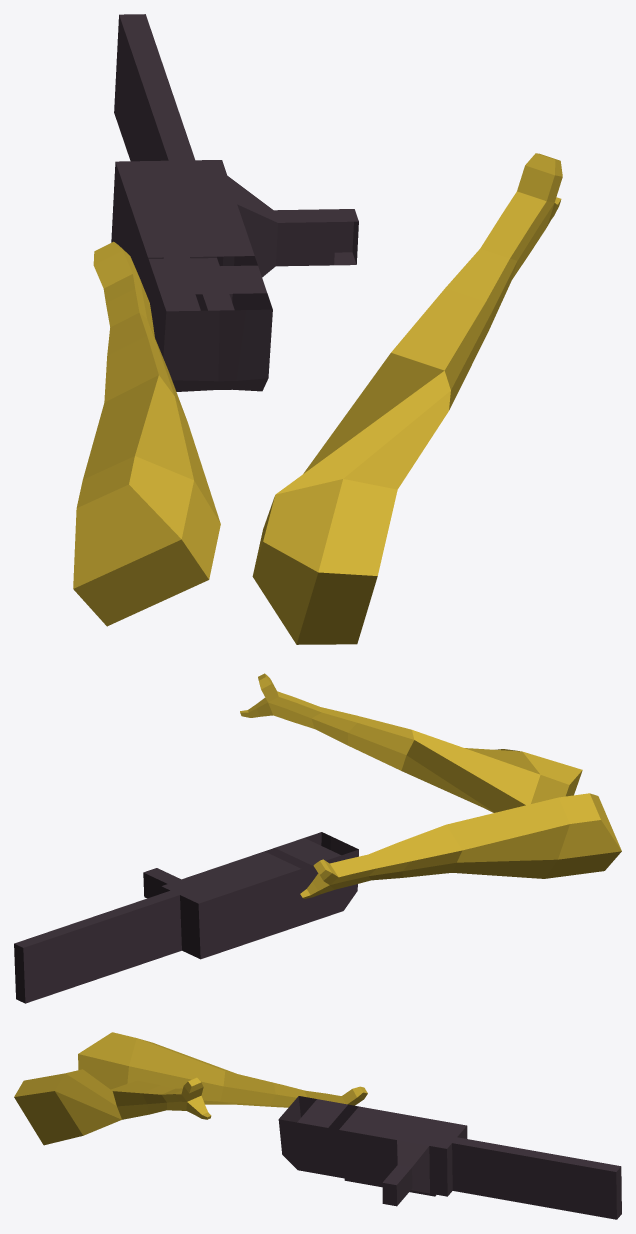
The model's file is arme_000081.obj.
The picture shows the model from 3 angles, top to bottom: view 1: azimuth 30°, elevation 25°; view 2: azimuth 150°, elevation 25°; view 3: azimuth 270°, elevation 25°; orthographic projection. The views are drawn at different scales.
Parts seen in each view (by area): view 1: Cube.048_Cube.024, Cube.046_Cube.010; view 2: Cube.048_Cube.024, Cube.046_Cube.010; view 3: Cube.046_Cube.010, Cube.048_Cube.024.
Part boxes in pixels (bbox=[...]): Cube.048_Cube.024: bbox=[73, 153, 562, 644]; Cube.046_Cube.010: bbox=[111, 14, 358, 391]; Cube.048_Cube.024: bbox=[240, 673, 621, 898]; Cube.046_Cube.010: bbox=[14, 832, 358, 1003]; Cube.046_Cube.010: bbox=[278, 1096, 621, 1219]; Cube.048_Cube.024: bbox=[14, 1032, 367, 1145].
Size of the model in its own units: 1380 by 672 by 2486.
